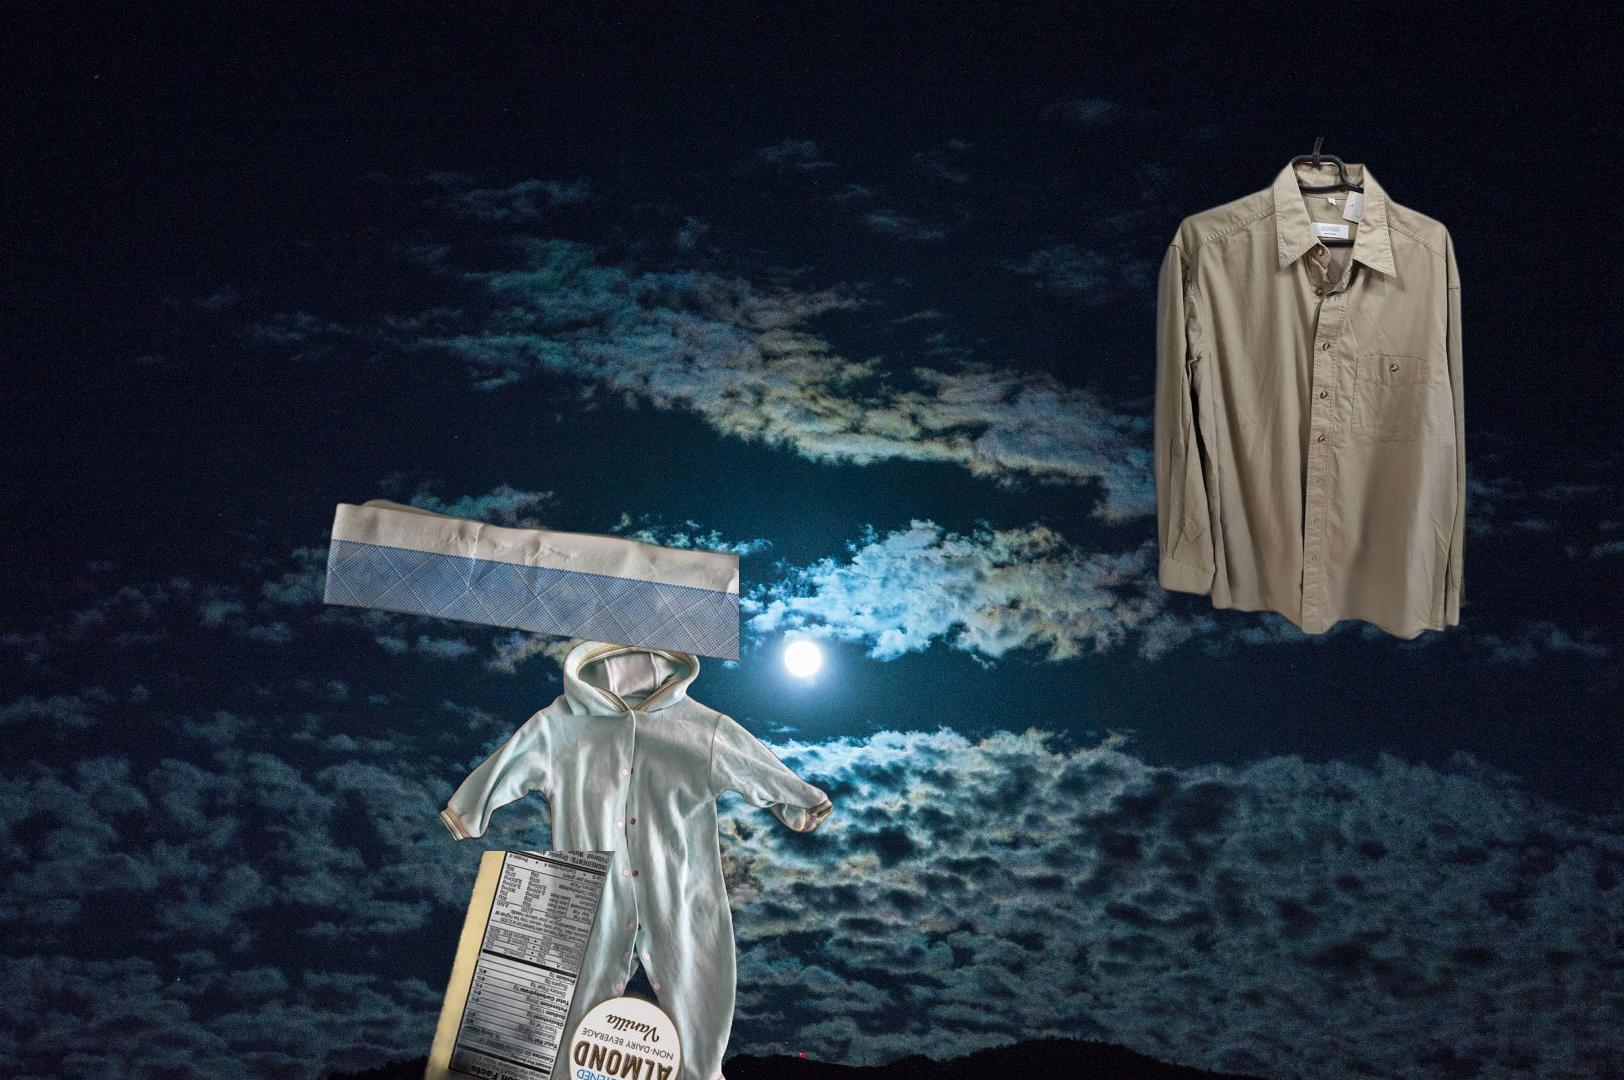clothes: (437, 621, 837, 1080), (1148, 137, 1470, 645)
paper: (318, 495, 739, 665)
trashbox-cardboard: (414, 851, 900, 1080)
